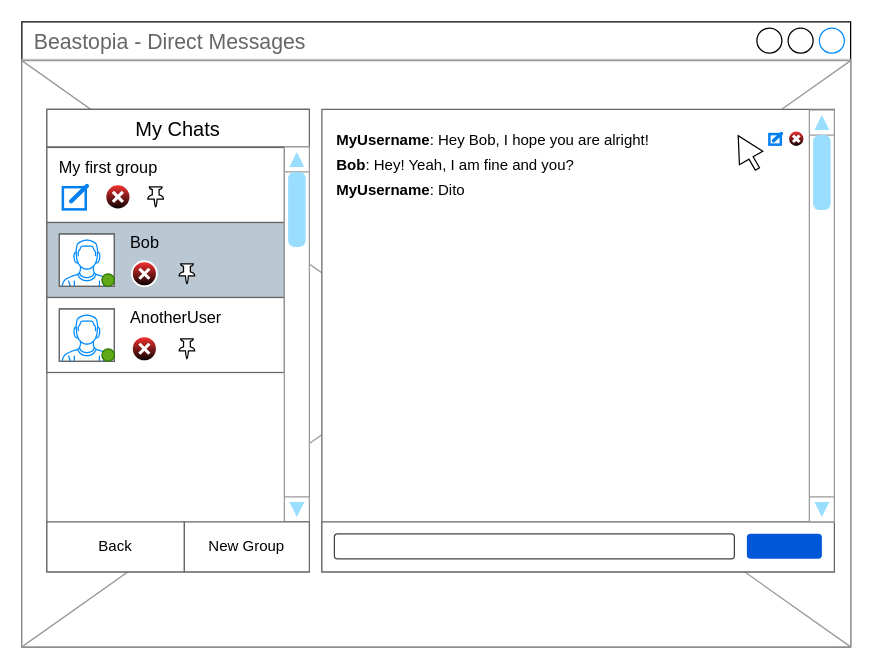
Some shapes in this 873 by 669 pixel diagram are drawn without their labels. The shapes that lost their labels are listed below. From the top down, each one's centre as x and y in pixels, then its label:
At [533,545]: "Chat input...".
At [783,545]: "Enter".
